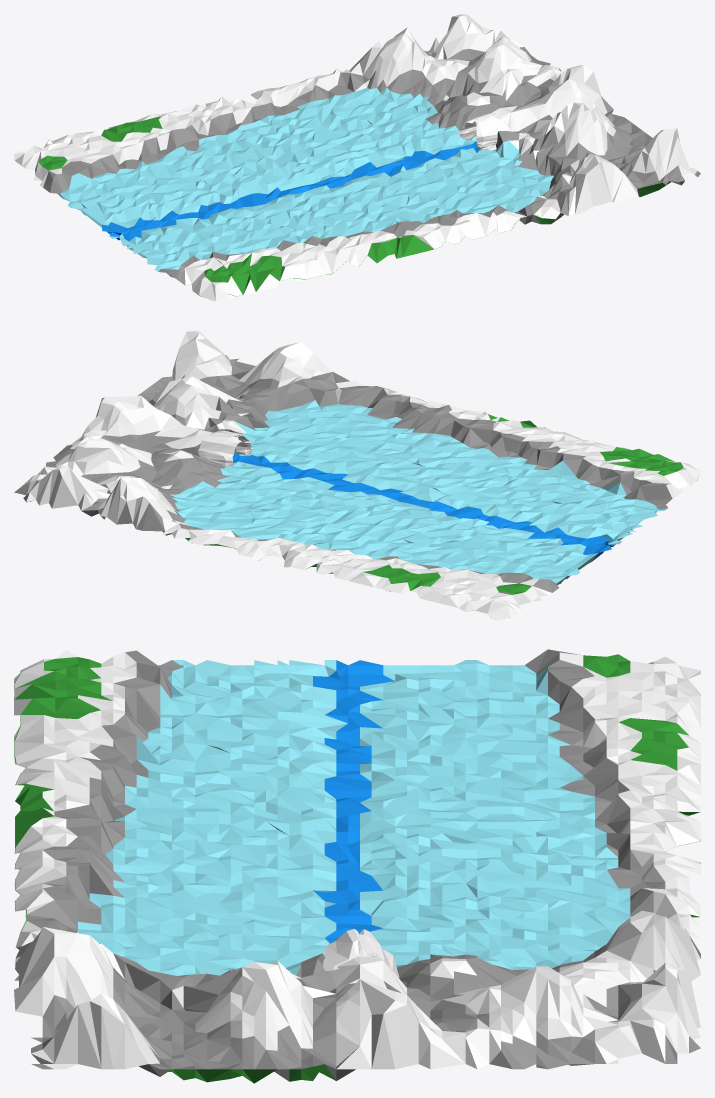
3 renders of one model, top to bottom at view 1: azimuth 30°, elevation 25°; view 2: azimuth 150°, elevation 25°; view 3: azimuth 270°, elevation 25°, orthographic. The views are drawn at different scales.
Visible parts, largest first — view 1: Box001, Cylinder002; view 2: Box001, Cylinder002; view 3: Box001, Cylinder002.
Part boxes in pixels (x1,y1,x2,y2): Box001: (14,14,700,301); Cylinder002: (460,112,510,150); Box001: (14,330,700,620); Cylinder002: (198,430,252,466); Box001: (14,649,700,1083); Cylinder002: (323,929,399,977).
Size of the model in its own units: 279 by 28.96 by 195.
